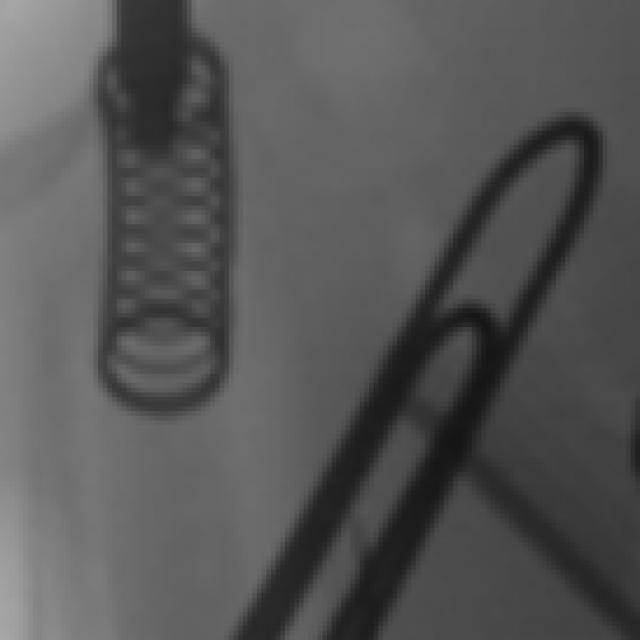BLADE: (566, 291, 640, 622)
